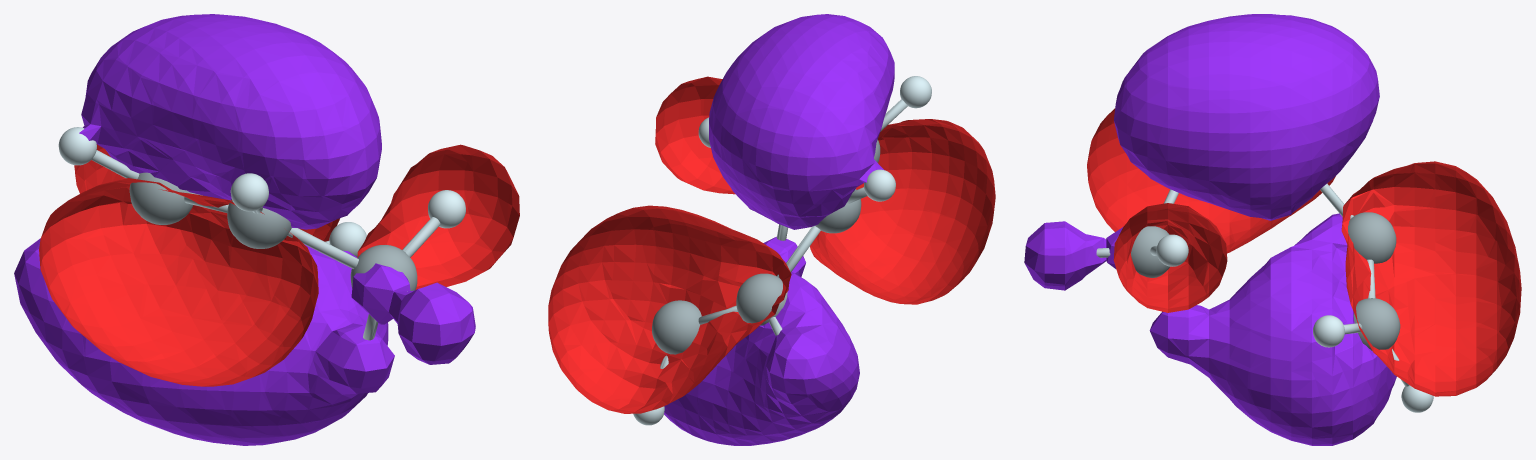
3 views of the same model, side by side, from view 1: azimuth 30°, elevation 25°; view 2: azimuth 150°, elevation 25°; view 3: azimuth 270°, elevation 25° (orthographic). The views are drawn at different scales.
Visible parts, largest first — view 1: Renderer Node; view 2: Renderer Node; view 3: Renderer Node.
Boxes of the visible parts, bbox=[...] form: Renderer Node: bbox=[14, 14, 519, 445]; Renderer Node: bbox=[548, 14, 995, 445]; Renderer Node: bbox=[1024, 14, 1521, 445].
Size of the model in its own units: 4.92 by 5.23 by 6.15.
